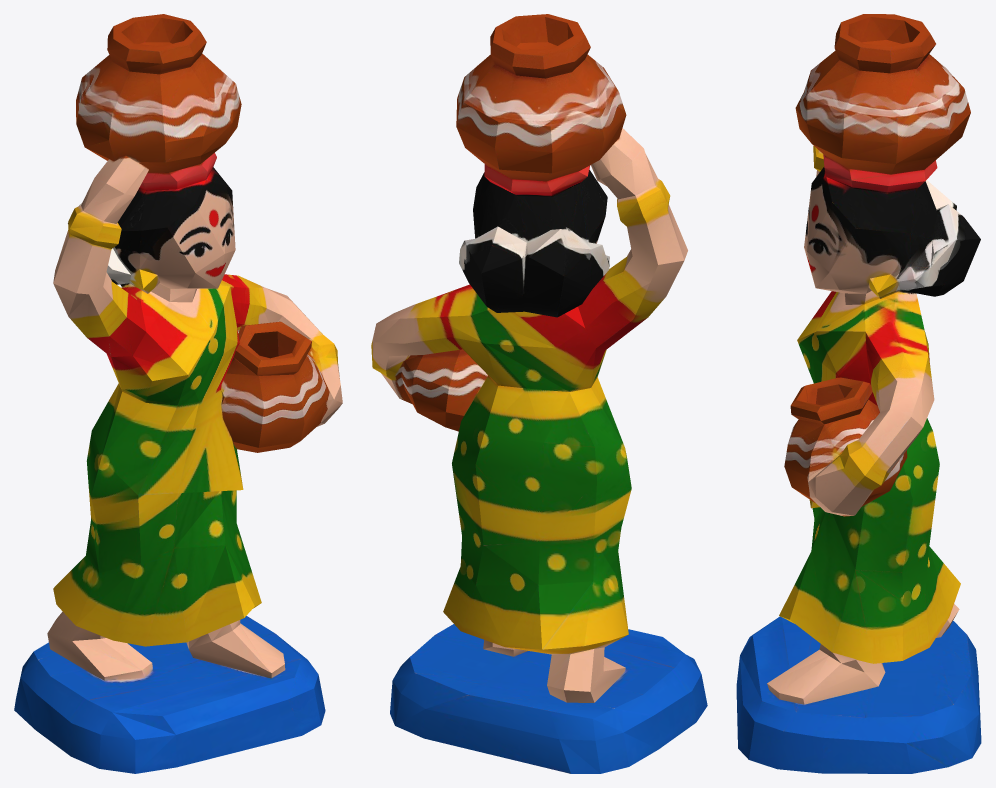
Rendered from woman_with_pots.glb.
The picture shows the model from 3 angles, left to right: view 1: azimuth 30°, elevation 25°; view 2: azimuth 150°, elevation 25°; view 3: azimuth 270°, elevation 25°; orthographic projection. The views are drawn at different scales.
Parts seen in each view (by area): view 1: mesh_000; view 2: mesh_000; view 3: mesh_000.
Boxes of the visible parts, <box> form: mesh_000: <box>14,14,342,773</box>; mesh_000: <box>371,14,707,773</box>; mesh_000: <box>736,14,981,773</box>.
Size of the model in its own units: 0.4385 by 0.9531 by 0.3101.
1 material, 1 textured.
